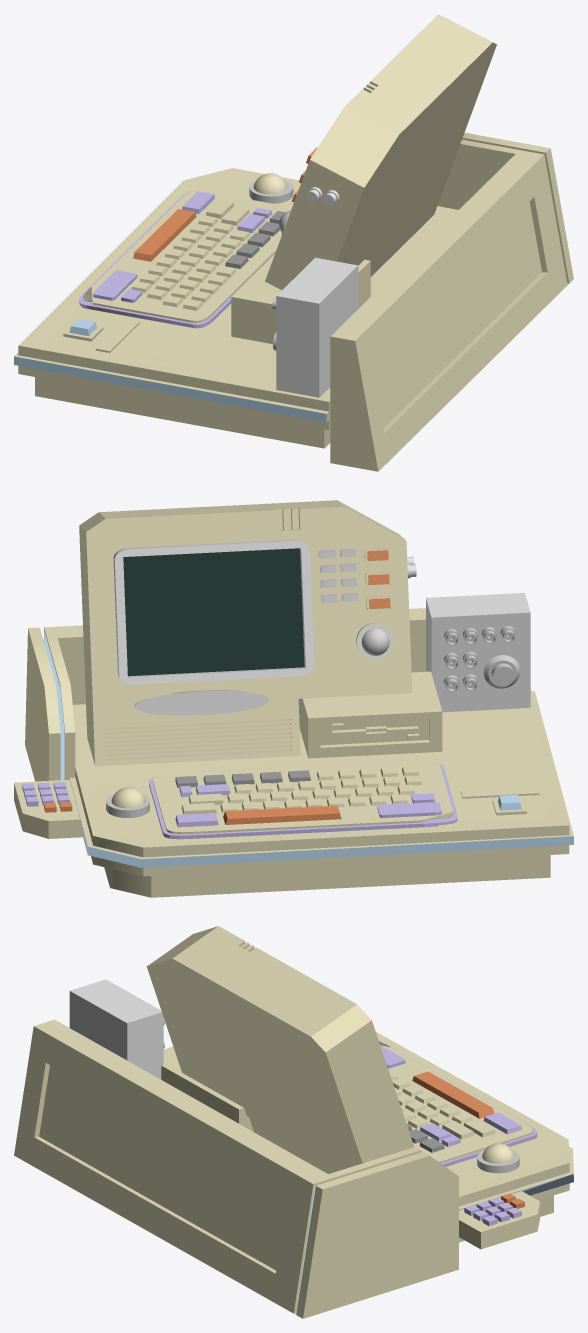
The model's file is tableaubord_final_avec_bouton.fbx.
The picture shows the model from 3 angles, top to bottom: view 1: azimuth 30°, elevation 25°; view 2: azimuth 150°, elevation 25°; view 3: azimuth 270°, elevation 25°; orthographic projection. The views are drawn at different scales.
Visible parts, largest first — view 1: ordi_final.002; view 2: ordi_final.002; view 3: ordi_final.002.
Boxes of the visible parts, x1,y1,x2,y2 form: ordi_final.002: [14, 14, 573, 471]; ordi_final.002: [14, 500, 573, 897]; ordi_final.002: [14, 926, 573, 1318].
Bounding box in the file's own units: 1.35 × 1.22 × 0.6338.
